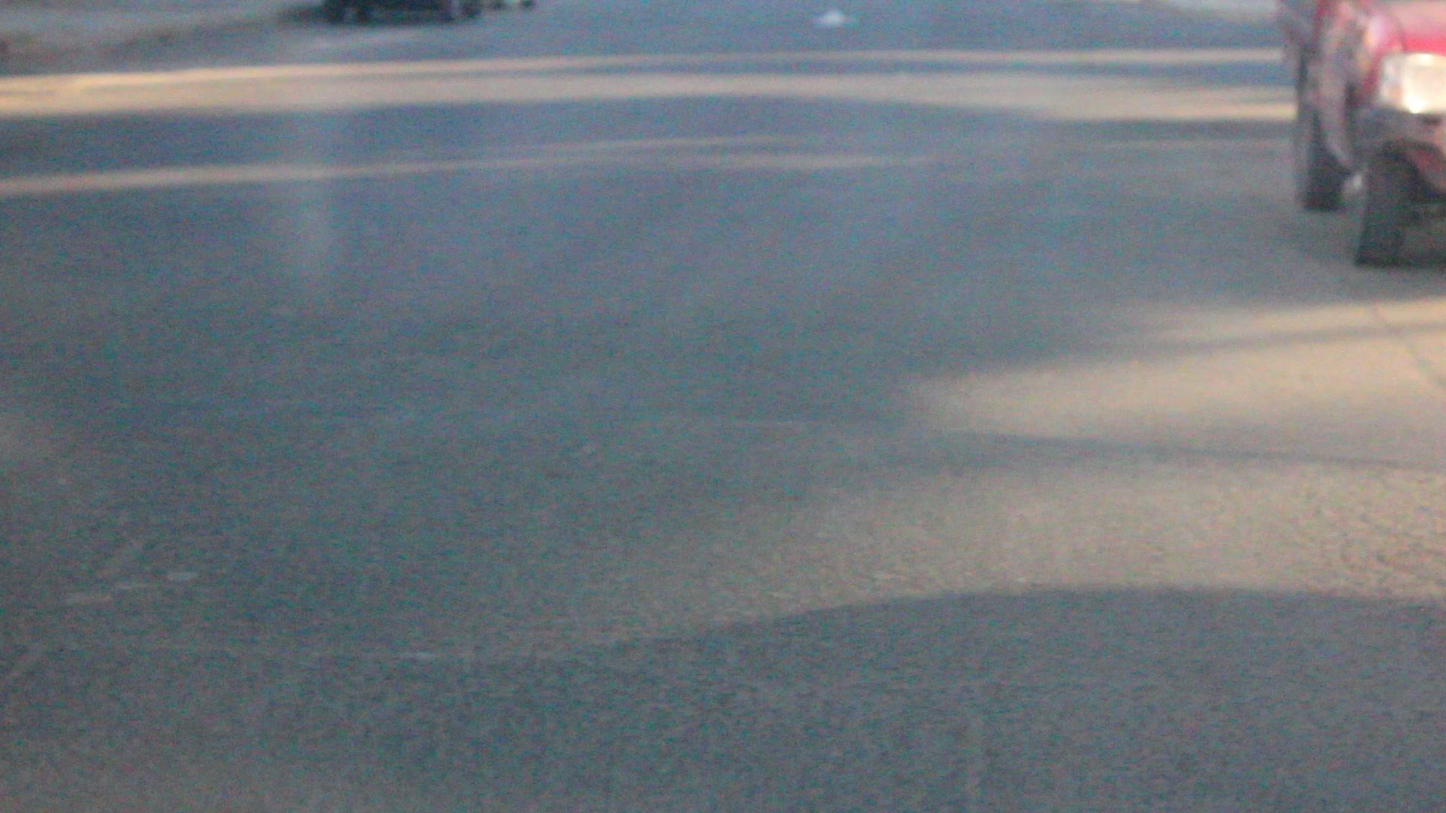Bump: (0, 387, 1444, 812)
